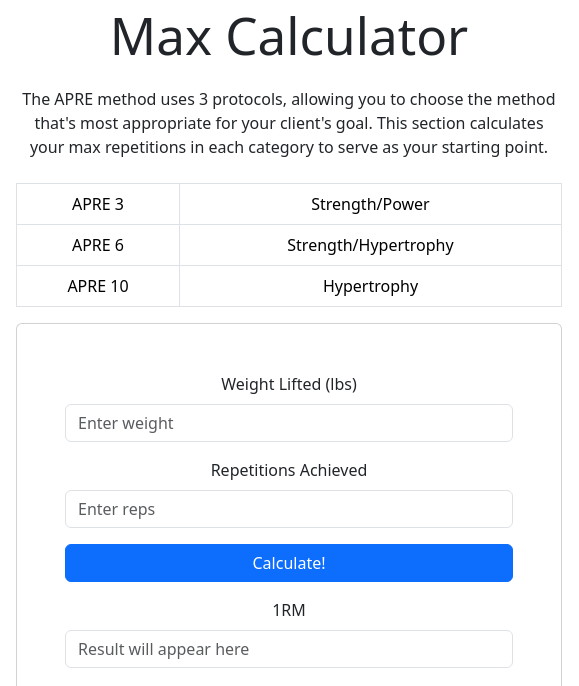
Test case: OneRMCalculator › calculates 1RM correctly using Brzycki formula
In the number field labelled "Weight Lifted (lbs)": (289, 423) [65,404,513,442], type "200"
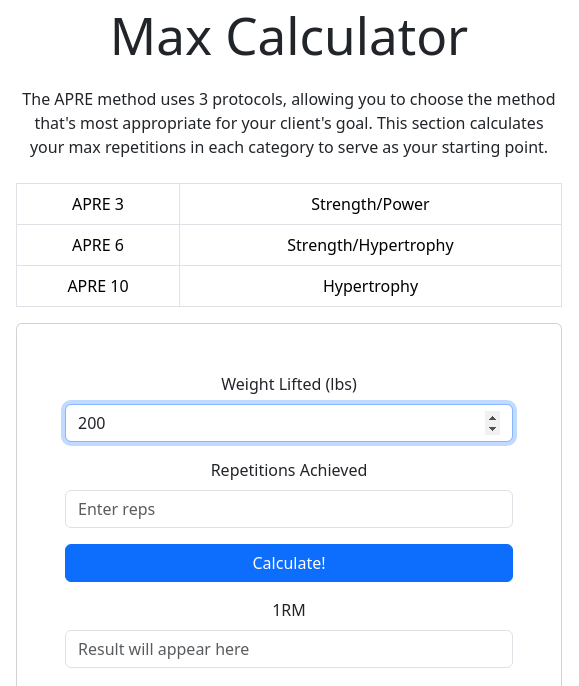
In the number field labelled "Repetitions Achieved": (289, 509) [65,490,513,528], type "5"
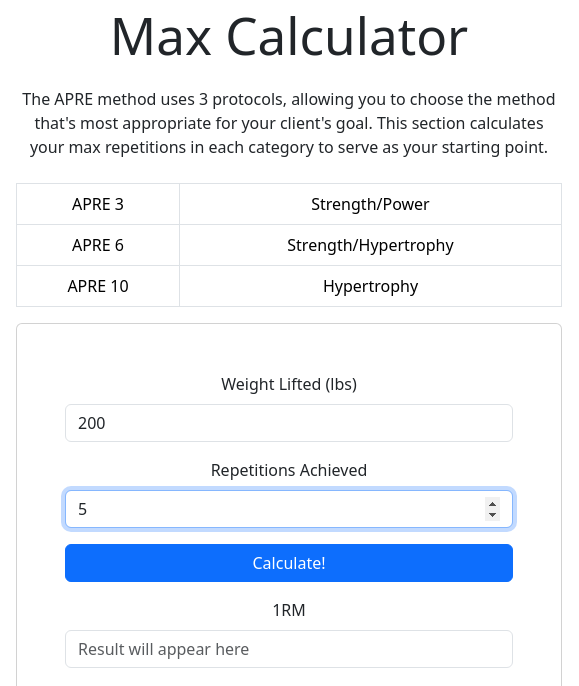
Click the button "Calculate!": (289, 563) [65,544,513,582]
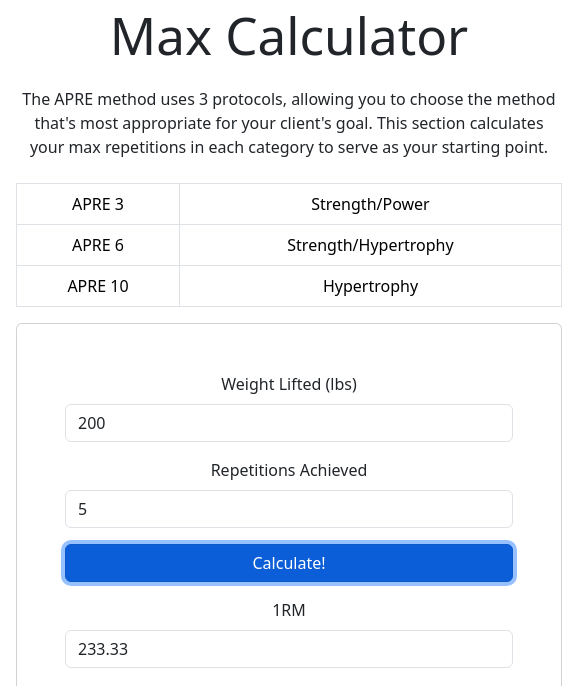
Check: the field labelled "1RM" holds "233.33", box [65,630,513,668]
